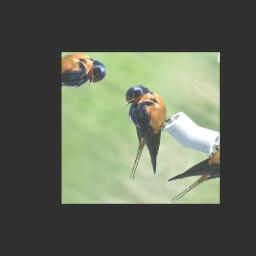Swallow: (81, 79, 197, 187)
